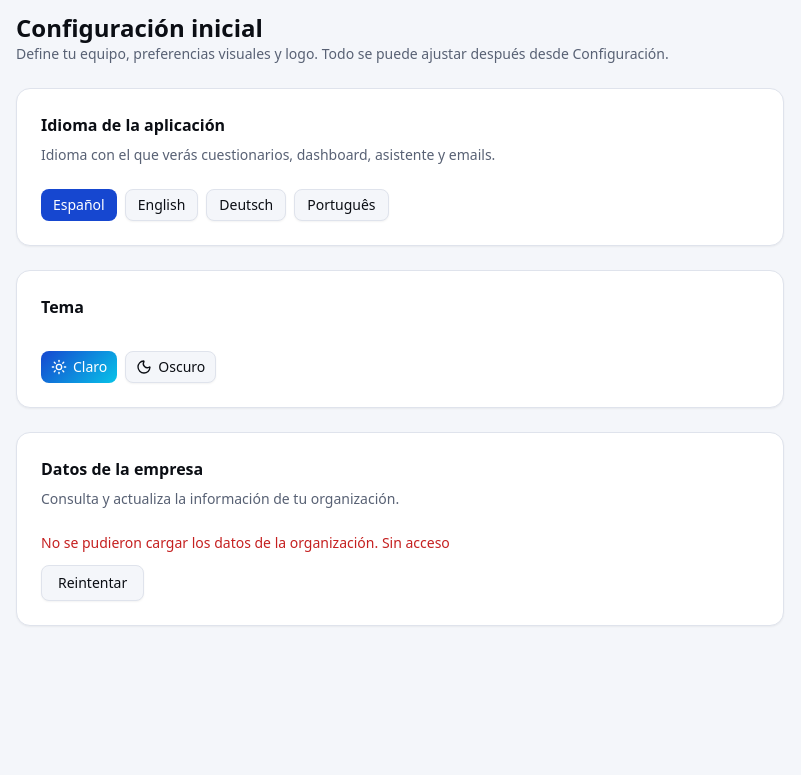
Scenario: Settings organization profile › allows retrying a failed GET
Expected: the message shows "Sin acceso", 382,533 -> 450,552
Click the button "Reintentar" at (93, 583), box 41,565 -> 144,601
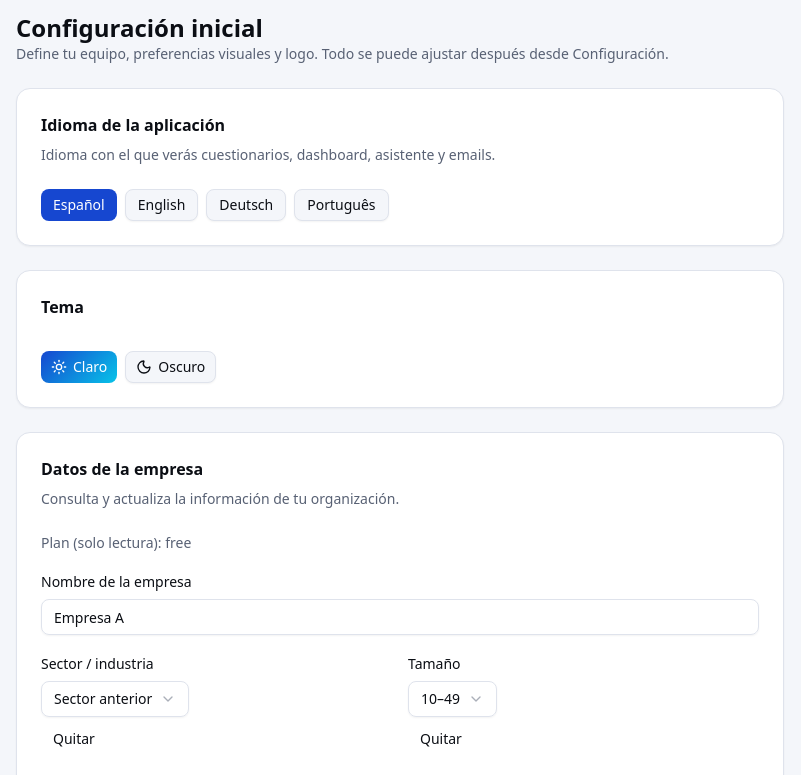
Result: the field showing "Empresa A" is shown at 41,599 -> 759,635
